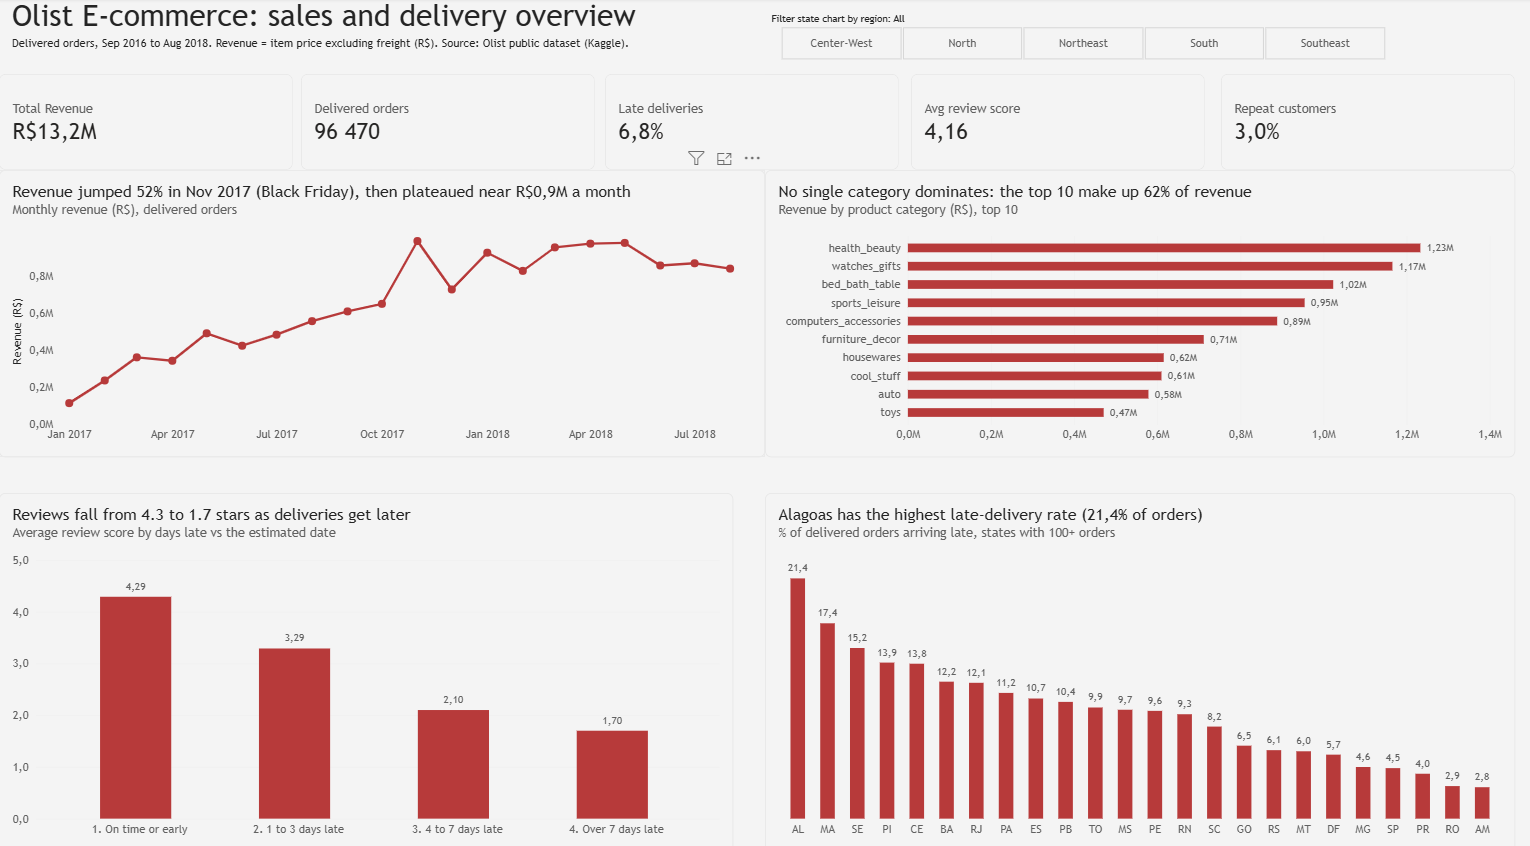

Layout of this report page (visuals, bound fields, positions):
{"tool":"powerbi","page":{"name":"Overview","canvas":[1920,1080],"ordinal":0},"visuals":[{"type":"cardVisual","fields":{"Data":["kpis.Total Revenue"]},"box":[0,95.2,368,120],"z":0},{"type":"cardVisual","fields":{"Data":["kpis.Repeat customers"]},"box":[1531,95.2,368,120],"z":1000},{"type":"cardVisual","fields":{"Data":["kpis.Delivered orders"]},"box":[378.4,95.2,368,120],"z":2000},{"type":"cardVisual","fields":{"Data":["kpis.Late deliveries"]},"box":[759.3,95.2,368,120],"z":3000},{"type":"cardVisual","fields":{"Data":["kpis.Avg review score"]},"box":[1142.6,95.2,368,120],"z":4000},{"type":"lineChart","title":"Revenue jumped 52% in Nov 2017 (Black Friday), then plateaued near R$0,9M a month","fields":{"Category":["monthly_revenue.month"],"Y":["Sum(monthly_revenue.revenue)"]},"box":[0,215.6,960,360],"z":5000},{"type":"clusteredBarChart","title":"No single category dominates: the top 10 make up 62% of revenue","fields":{"Category":["top_categories.category"],"Y":["Sum(top_categories.revenue)"]},"box":[960,215.6,940,360],"z":6000},{"type":"slicer","fields":{"Values":["state_delivery.region"]},"box":[959.7,18.8,796,60],"z":7000},{"type":"clusteredColumnChart","fields":{"Category":["state_delivery.state"],"Y":["Sum(state_delivery.pct_late)"]},"box":[959.7,620.2,940,450],"z":8000},{"type":"clusteredColumnChart","title":"Reviews fall from 4.3 to 1.7 stars as deliveries get later","fields":{"Category":["lateness_reviews.lateness"],"Y":["Sum(lateness_reviews.avg_review_score)"]},"box":[0,620.2,920,450],"z":9000},{"type":"textbox","box":[16.2,0,965,48.8],"z":9001},{"type":"textbox","box":[16.2,48.8,943.8,46.2],"z":9002}]}

Visuals, with their boxes in screenshot pixels (x1, y1, x2, y2), scaled from the page's 1920x1080 canvas onto the 1530x846 screenshot:
cardVisual - kpis.Total Revenue: rect(0, 75, 293, 169)
cardVisual - kpis.Repeat customers: rect(1220, 75, 1513, 169)
cardVisual - kpis.Delivered orders: rect(302, 75, 595, 169)
cardVisual - kpis.Late deliveries: rect(605, 75, 898, 169)
cardVisual - kpis.Avg review score: rect(911, 75, 1204, 169)
"Revenue jumped 52% in Nov 2017 (Black Friday), then plateaued near R$0,9M a month" lineChart: rect(0, 169, 765, 451)
"No single category dominates: the top 10 make up 62% of revenue" clusteredBarChart: rect(765, 169, 1514, 451)
slicer - state_delivery.region: rect(765, 15, 1399, 62)
clusteredColumnChart - state_delivery.state x Sum(state_delivery.pct_late): rect(765, 486, 1514, 838)
"Reviews fall from 4.3 to 1.7 stars as deliveries get later" clusteredColumnChart: rect(0, 486, 733, 838)
textbox: rect(13, 0, 782, 38)
textbox: rect(13, 38, 765, 74)
